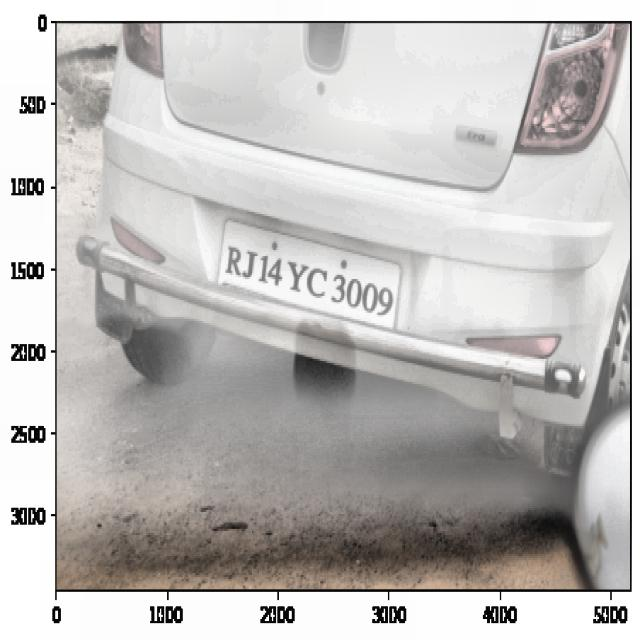license_plate: (222, 237, 397, 325)
